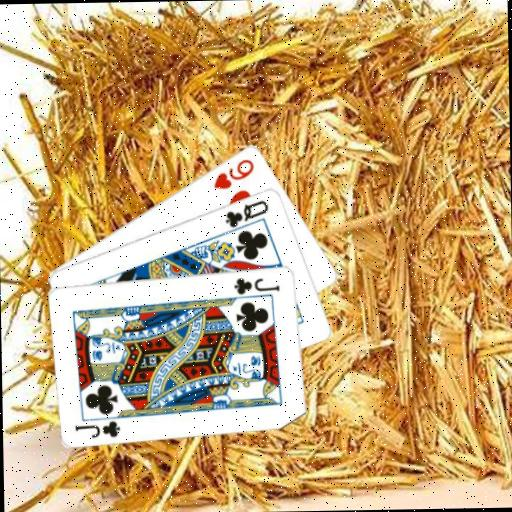9H: (210, 155, 257, 191)
JC: (72, 417, 122, 440), (232, 274, 282, 296)
QC: (222, 196, 271, 229)
